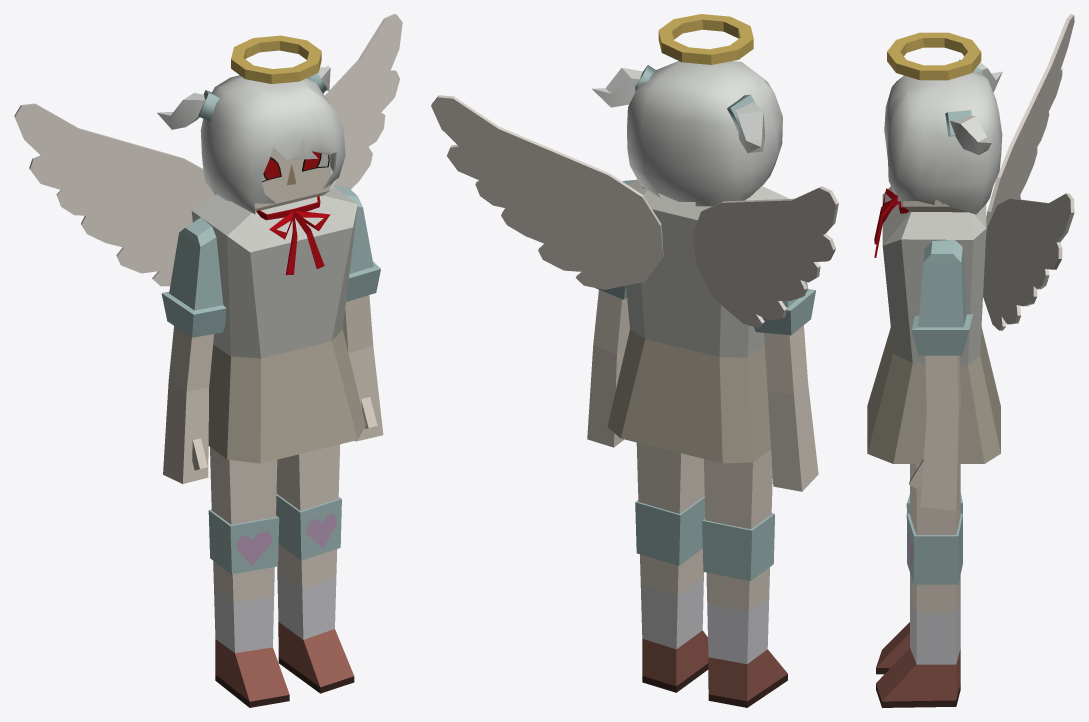
The model's file is Angel.fbx.
3 renders of one model, left to right at view 1: azimuth 30°, elevation 25°; view 2: azimuth 150°, elevation 25°; view 3: azimuth 270°, elevation 25°, orthographic. The views are drawn at different scales.
Parts seen in each view (by area): view 1: Angel; view 2: Angel; view 3: Angel.
Part boxes in pixels (box(x1,y1,x2,y2)): Angel: box(14, 14, 402, 707); Angel: box(431, 14, 838, 707); Angel: box(867, 14, 1074, 707).
Bounding box in the file's own units: 399 × 610 × 182.
